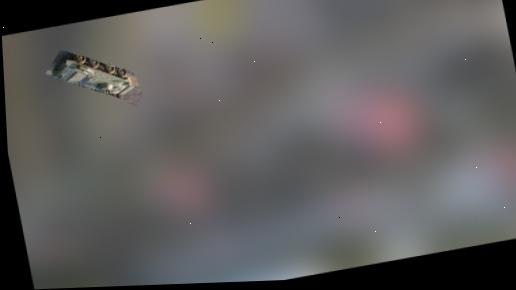armored_car: (46, 42, 134, 108)
